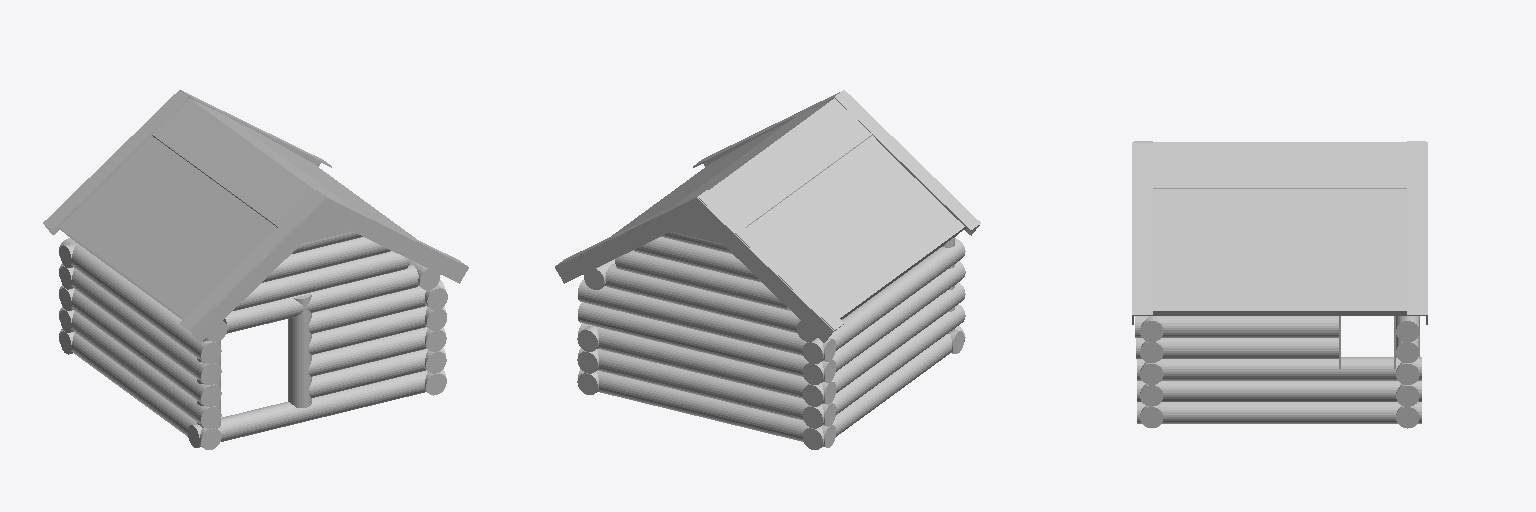
File: tanner.obj
The picture shows the model from 3 angles: view 1: azimuth 30°, elevation 25°; view 2: azimuth 150°, elevation 25°; view 3: azimuth 270°, elevation 25°; orthographic projection.
Parts seen in each view (by area): view 1: House_LOD1_Untitled; view 2: House_LOD1_Untitled; view 3: House_LOD1_Untitled.
Boxes of the visible parts, x1=… form: House_LOD1_Untitled: x1=43, y1=90, x2=468, y2=449; House_LOD1_Untitled: x1=555, y1=90, x2=980, y2=449; House_LOD1_Untitled: x1=1132, y1=141, x2=1427, y2=428.
Size of the model in its own units: 6.62 by 5.14 by 6.04.